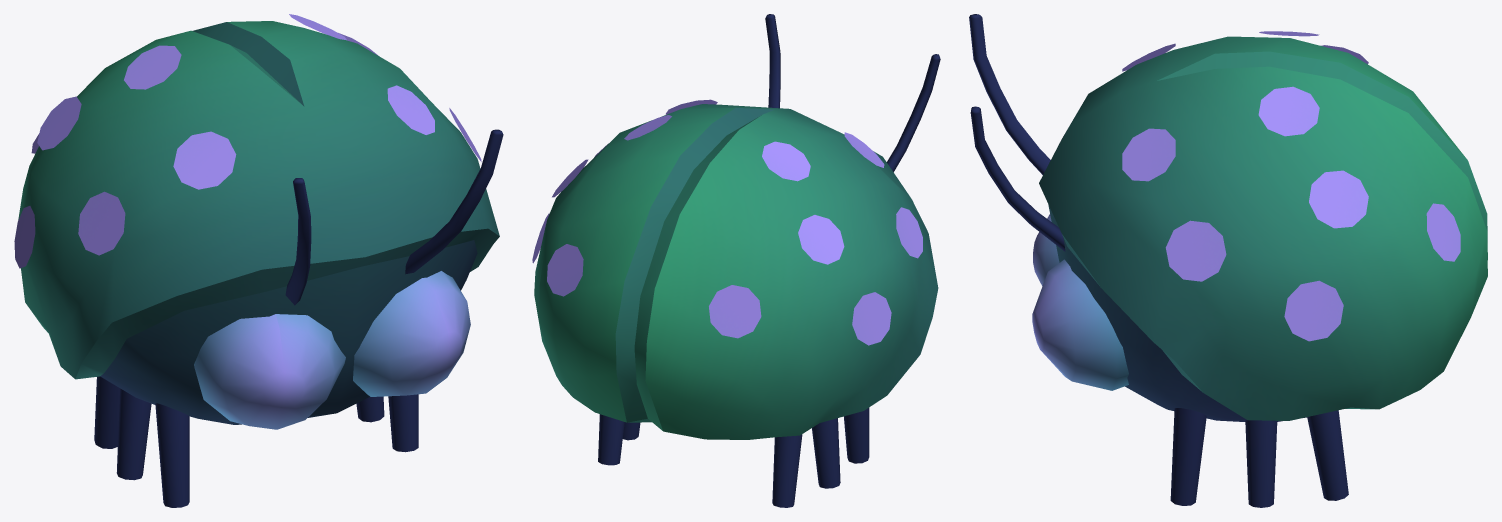
The model's file is SM_Ladybug.fbx.
The picture shows the model from 3 angles, left to right: view 1: azimuth 30°, elevation 25°; view 2: azimuth 150°, elevation 25°; view 3: azimuth 270°, elevation 25°; orthographic projection. The views are drawn at different scales.
Visible parts, largest first — view 1: pCylinder15; view 2: pCylinder15; view 3: pCylinder15.
Part boxes in pixels (box(x1,y1,x2,y2)): pCylinder15: box(14, 14, 503, 507); pCylinder15: box(532, 14, 940, 507); pCylinder15: box(969, 14, 1487, 507).
Bounding box in the file's own units: 80.22 × 74.4 × 90.03.
